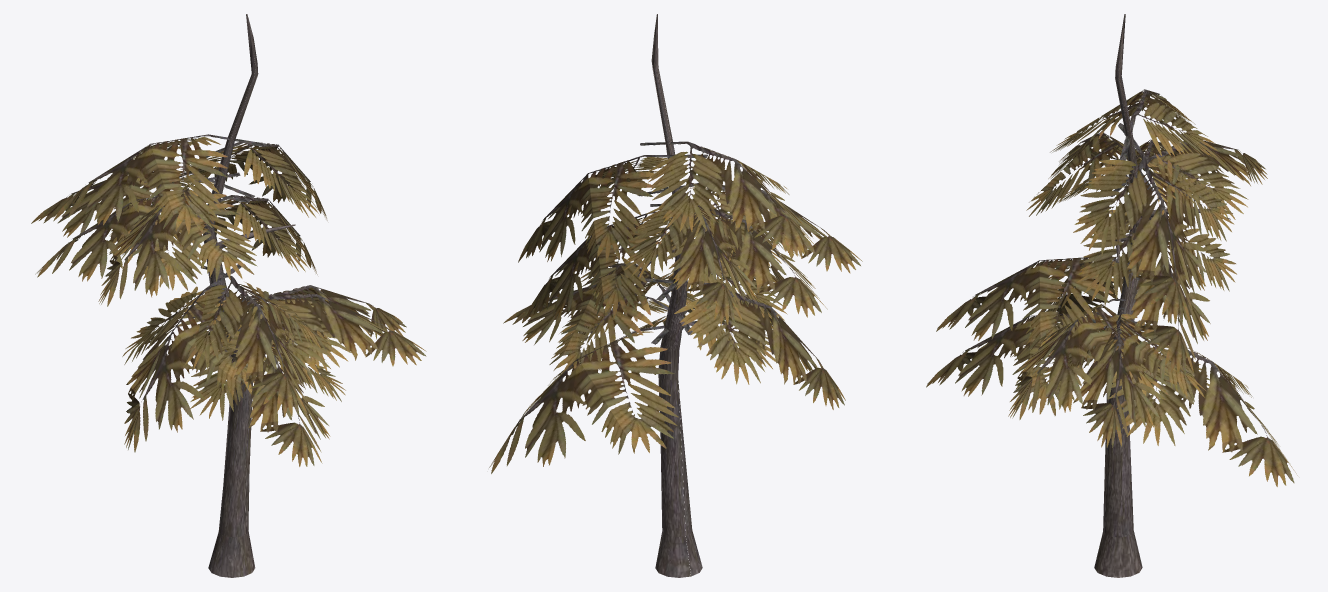
3 renders of one model, left to right at view 1: azimuth 30°, elevation 25°; view 2: azimuth 150°, elevation 25°; view 3: azimuth 270°, elevation 25°, orthographic. The views are drawn at different scales.
Visible parts, largest first — view 1: tree3; view 2: tree3; view 3: tree3.
Part boxes in pixels (<box>): tree3: <box>31,14,426,577</box>; tree3: <box>489,14,862,577</box>; tree3: <box>926,14,1297,577</box>.
Bounding box in the file's own units: 4.65 × 6.49 × 4.24.
Materials: 1 (1 with a texture image).
